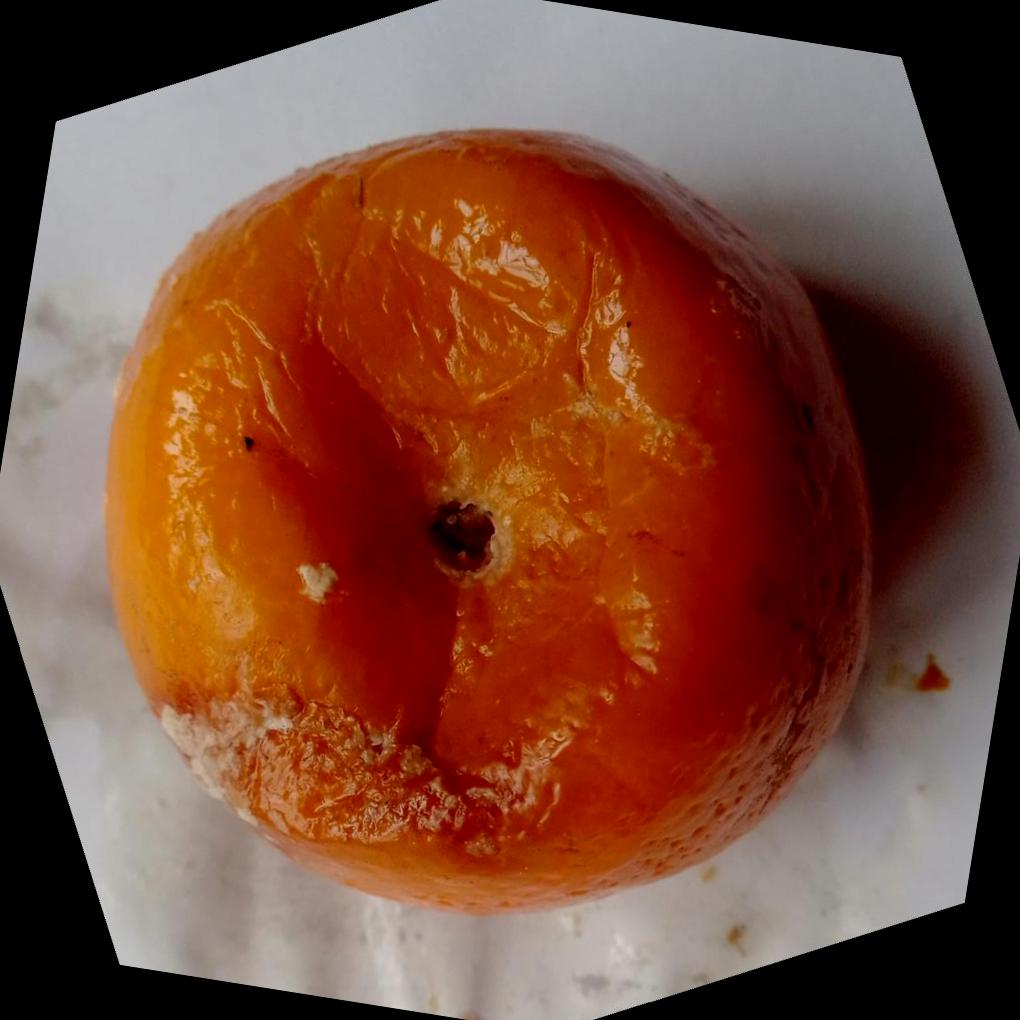FreshOrange: (103, 128, 881, 919)
